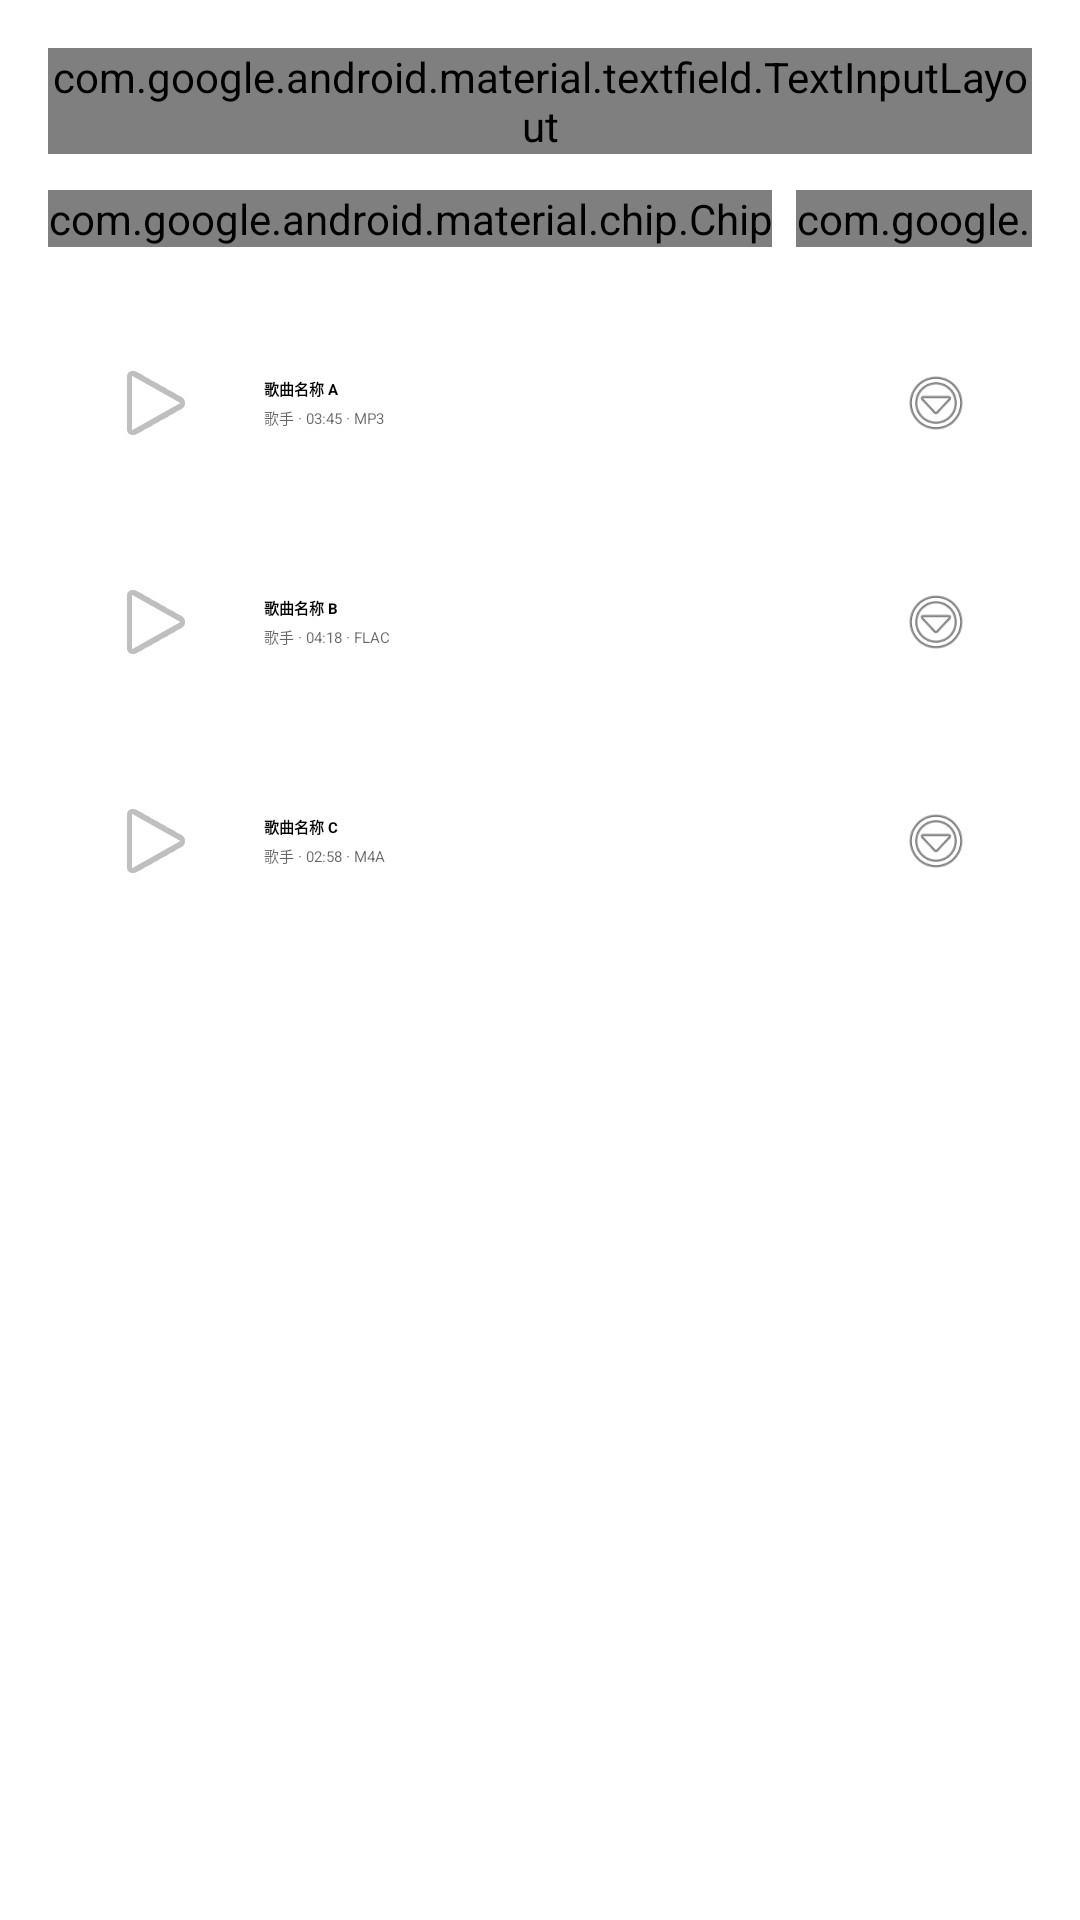

Icon click points for this 1080 x 1920 phone screenshot, format (x,y):
play: (156,403), (156,622), (156,841)
更多选项: (936,403), (936,622), (936,841)
